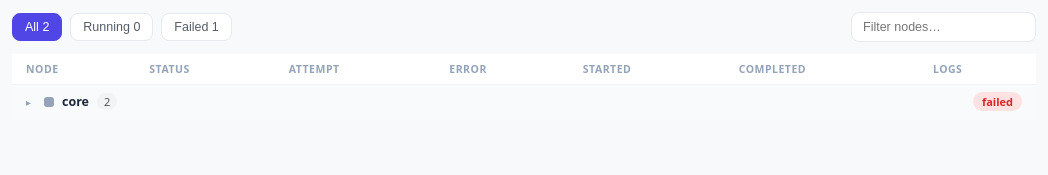
Test: RunNodeTable › auto-expands and shows a matching group when filtering by text search
Check: the text "bad_node" is not shown
Type "bad" into the field with placeholder "Filter nodes…" at (944, 27), box 851,12 -> 1036,42
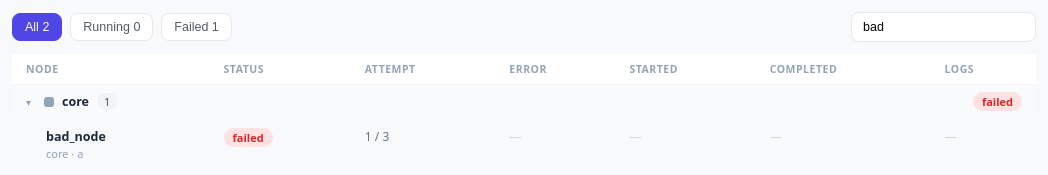
Check: the text "bad_node" is shown, box 46,128 -> 106,145
